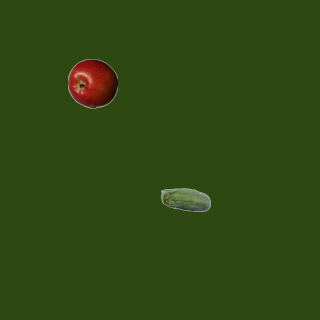Apple Braeburn: (67, 58, 117, 108)
Corn Husk: (160, 176, 210, 226)
